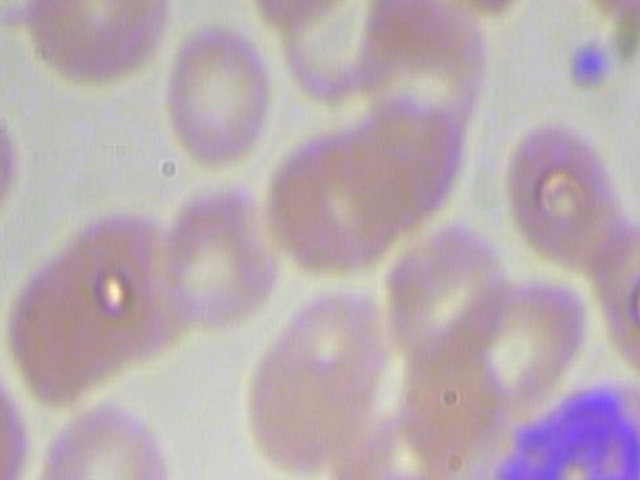Platelets: (561, 36, 612, 96)
RBC: (348, 0, 497, 148), (150, 170, 278, 340), (382, 213, 515, 363), (502, 117, 633, 266), (155, 22, 276, 175), (1, 0, 177, 101), (28, 391, 192, 480), (572, 209, 640, 386), (0, 91, 19, 244), (294, 470, 455, 480)
WBC: (447, 368, 640, 480)
